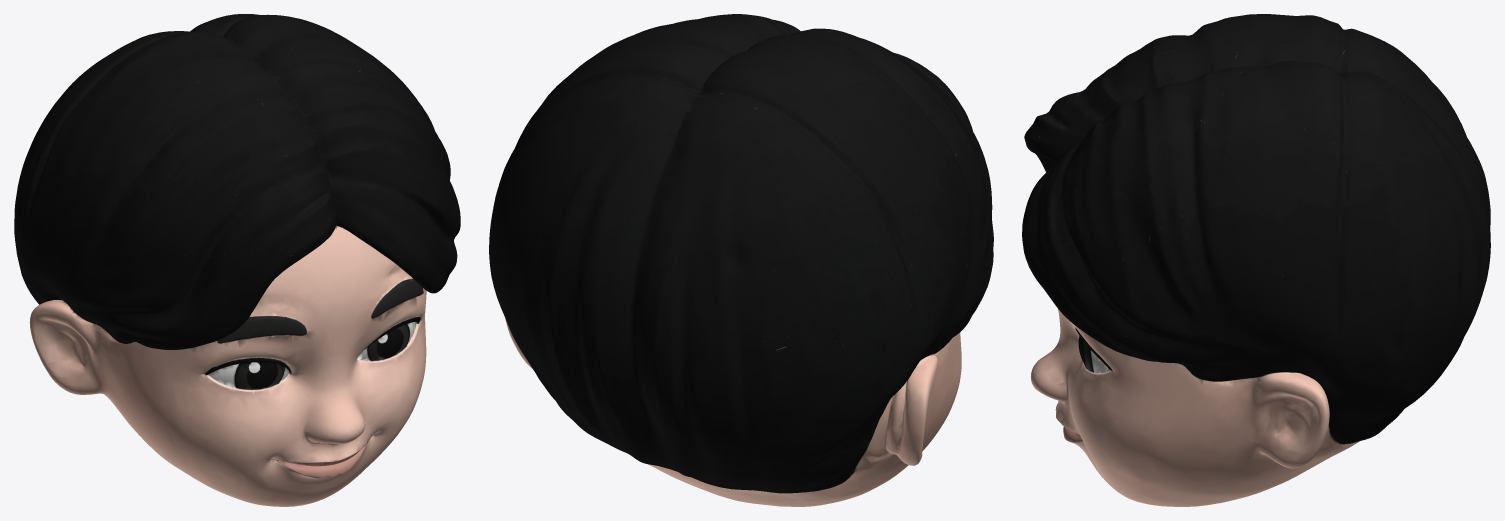
Rendered from avatar.glb.
3 renders of one model, left to right at view 1: azimuth 30°, elevation 25°; view 2: azimuth 150°, elevation 25°; view 3: azimuth 270°, elevation 25°, orthographic. The views are drawn at different scales.
Size of the model in its own units: 1.78 by 1.9 by 1.81.
1 material, 1 textured.
